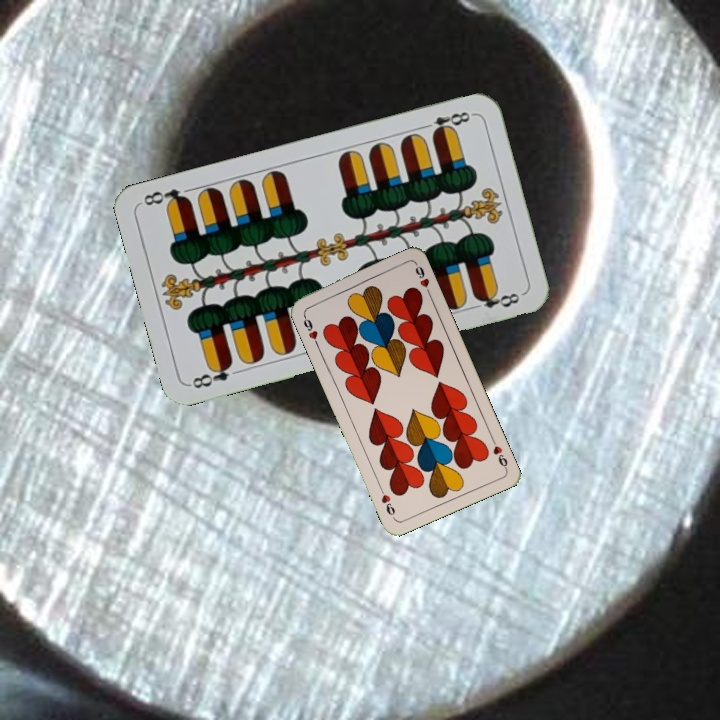E8: (417, 107, 476, 138), (187, 357, 236, 391)
H9: (487, 434, 510, 472), (299, 310, 321, 348)
